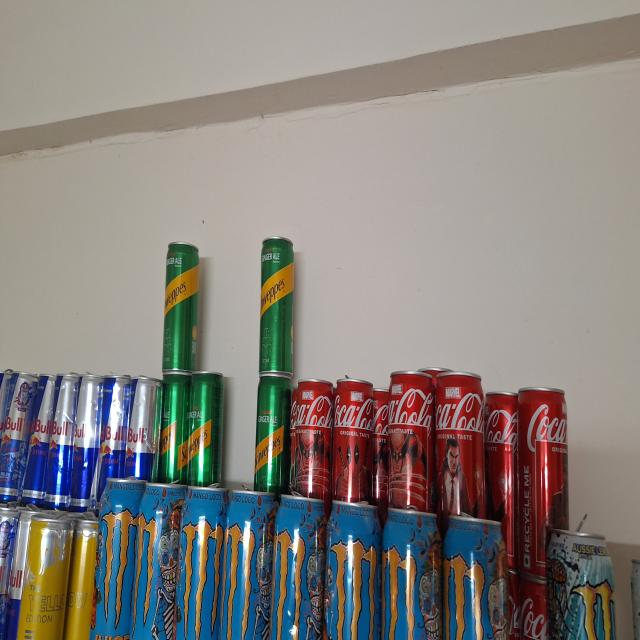Coca Cola: (508, 572, 546, 640)
Coca Cola - Marvel: (435, 378, 484, 508), (388, 370, 433, 510), (335, 381, 376, 497), (296, 378, 330, 496), (485, 395, 518, 514)
Monster Aussie Lemonade: (547, 524, 615, 640), (520, 389, 572, 533)
Monster Mango Loco: (93, 477, 141, 640), (446, 519, 508, 640), (135, 490, 185, 640), (181, 487, 230, 640), (224, 494, 275, 640), (278, 496, 329, 640), (328, 504, 382, 640), (328, 499, 380, 640), (384, 510, 440, 640)
Redbul: (243, 486, 640, 640), (72, 377, 108, 515), (45, 379, 79, 514), (23, 379, 57, 504), (129, 374, 160, 478), (100, 373, 126, 479), (8, 523, 24, 620)
Redbull DanceYourStyle: (0, 378, 32, 495), (3, 511, 12, 630)
Redbull Yellow Edition: (27, 516, 68, 640), (69, 527, 93, 640)
Schweppes: (260, 237, 295, 376), (160, 242, 198, 370), (252, 376, 288, 488), (192, 374, 224, 482), (162, 383, 187, 482)
